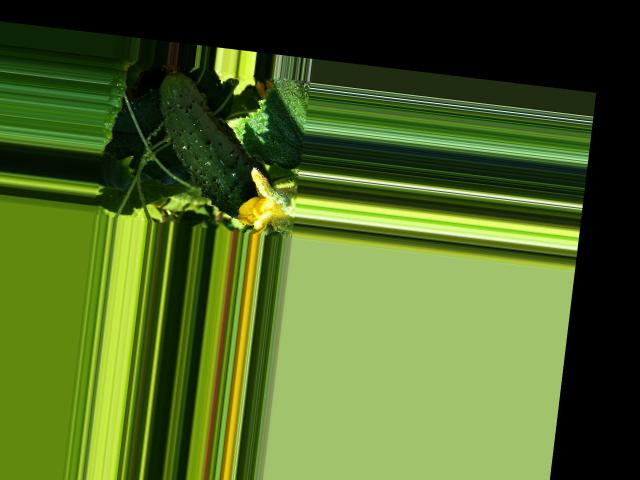cucumber: (144, 62, 285, 222)
